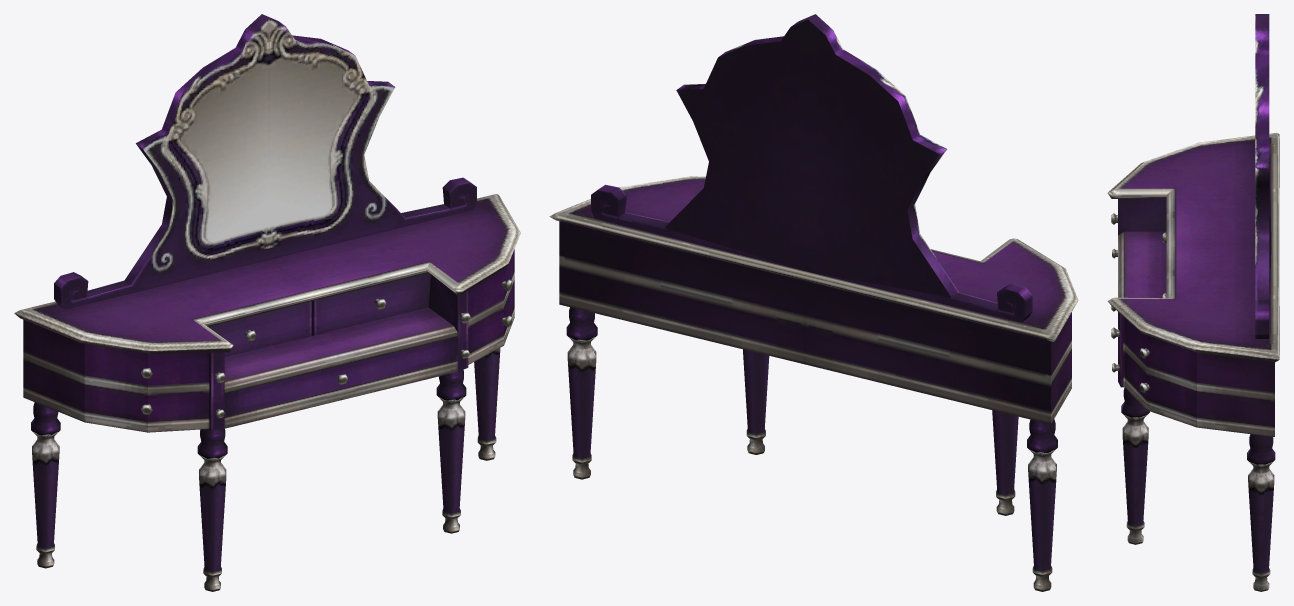
File: furni_0201117_01.FBX
The picture shows the model from 3 angles, left to right: view 1: azimuth 30°, elevation 25°; view 2: azimuth 150°, elevation 25°; view 3: azimuth 270°, elevation 25°; orthographic projection. The views are drawn at different scales.
Visible parts, largest first — view 1: furni_0201117_01; view 2: furni_0201117_01; view 3: furni_0201117_01.
Part boxes in pixels (x1,y1,x2,y2): furni_0201117_01: (14, 14, 520, 591); furni_0201117_01: (549, 14, 1078, 591); furni_0201117_01: (1107, 14, 1279, 591).
Size of the model in its own units: 158 by 154 by 50.83.
1 material, 1 textured.
